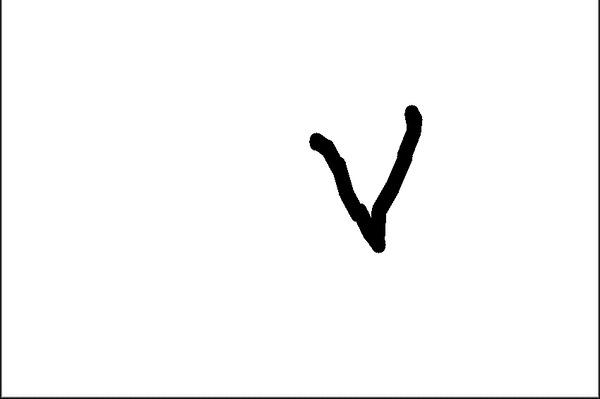V: (298, 101, 430, 258)
